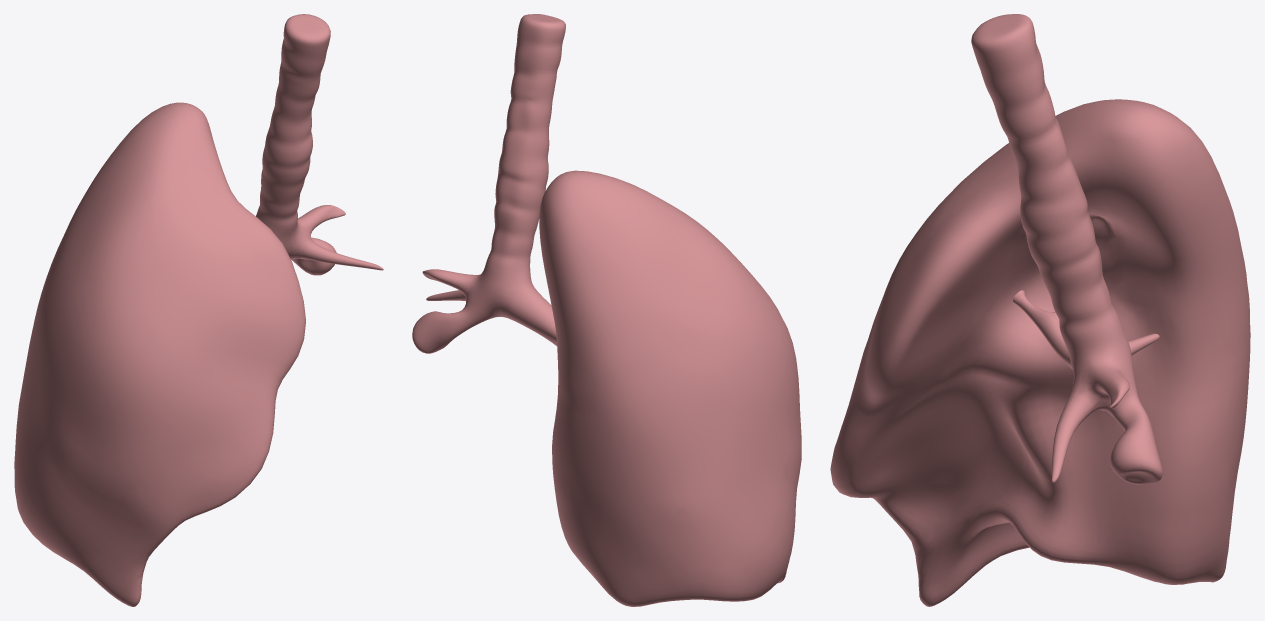
The model's file is healthy_lung.glb.
The picture shows the model from 3 angles, left to right: view 1: azimuth 30°, elevation 25°; view 2: azimuth 150°, elevation 25°; view 3: azimuth 270°, elevation 25°; orthographic projection. The views are drawn at different scales.
Parts seen in each view (by area): view 1: healthy_lung; view 2: healthy_lung; view 3: healthy_lung.
Part boxes in pixels (<box>): healthy_lung: <box>14,14,383,606</box>; healthy_lung: <box>412,14,801,606</box>; healthy_lung: <box>830,14,1250,606</box>.
Bounding box in the file's own units: 0.3356 × 0.481 × 0.2536.
